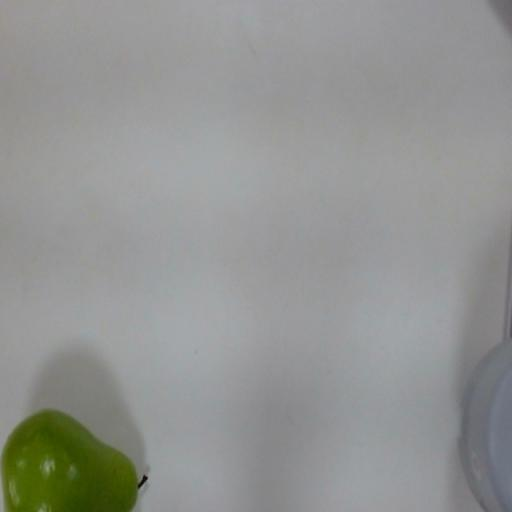Unripe: (2, 388, 160, 512)
